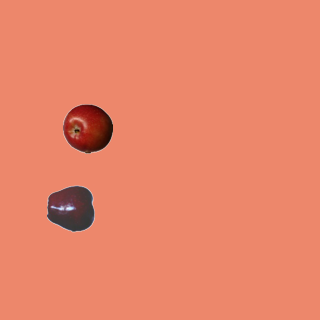Apple Braeburn: (62, 103, 112, 153)
Apple Red Delicious: (46, 183, 96, 233)
